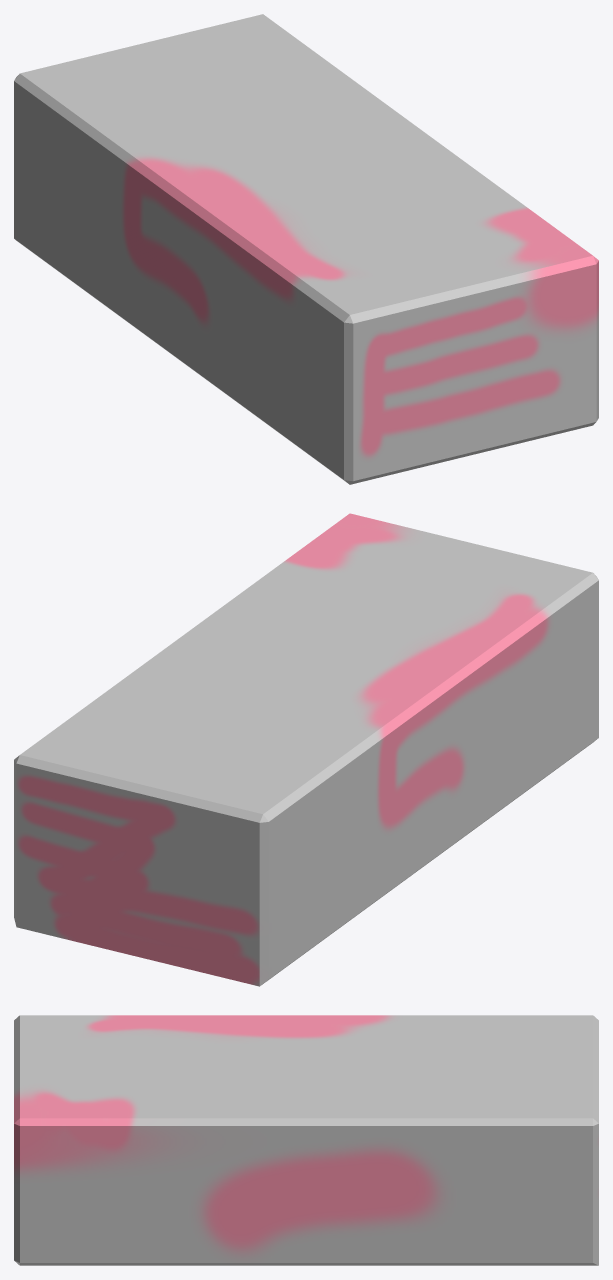
Rendered from brick.glb.
3 views of the same model, one above another, from view 1: azimuth 30°, elevation 25°; view 2: azimuth 150°, elevation 25°; view 3: azimuth 270°, elevation 25° (orthographic). The views are drawn at different scales.
Parts seen in each view (by area): view 1: Cube; view 2: Cube; view 3: Cube.
Boxes of the visible parts, x1=… form: Cube: x1=14, y1=14, x2=598, y2=484; Cube: x1=14, y1=513, x2=598, y2=986; Cube: x1=14, y1=1015, x2=598, y2=1265.
Bounding box in the file's own units: 0.8741 × 0.5565 × 2.
Materials: 1 (1 with a texture image).
